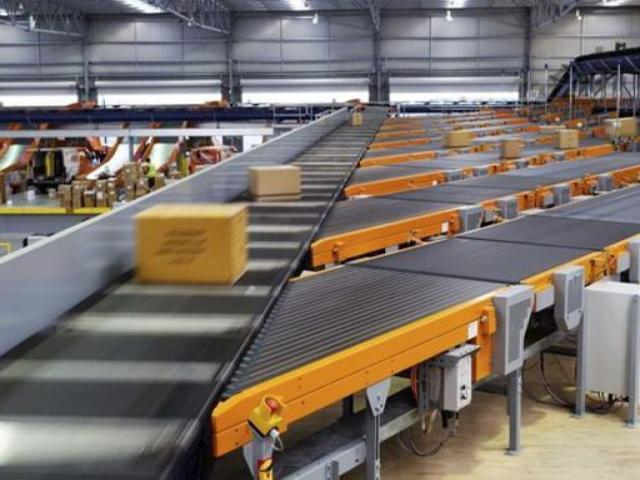conveyor: (0, 99, 394, 479)
